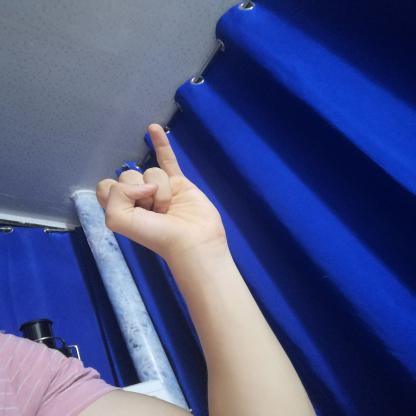MEEM: (78, 112, 243, 264)
